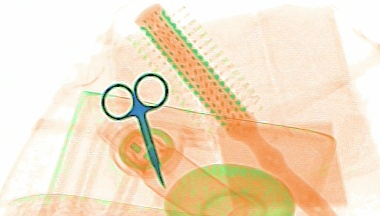scissors: (100, 71, 171, 191)
